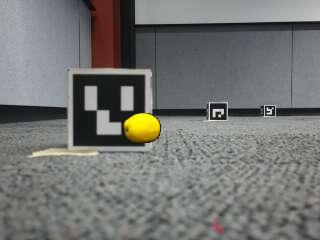lemon: (125, 114, 160, 143)
